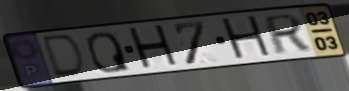7: (172, 19, 210, 67)
D: (41, 32, 87, 80)
H: (218, 13, 276, 63), (125, 23, 183, 72)
Q: (84, 30, 133, 75)
R: (262, 12, 312, 57)
